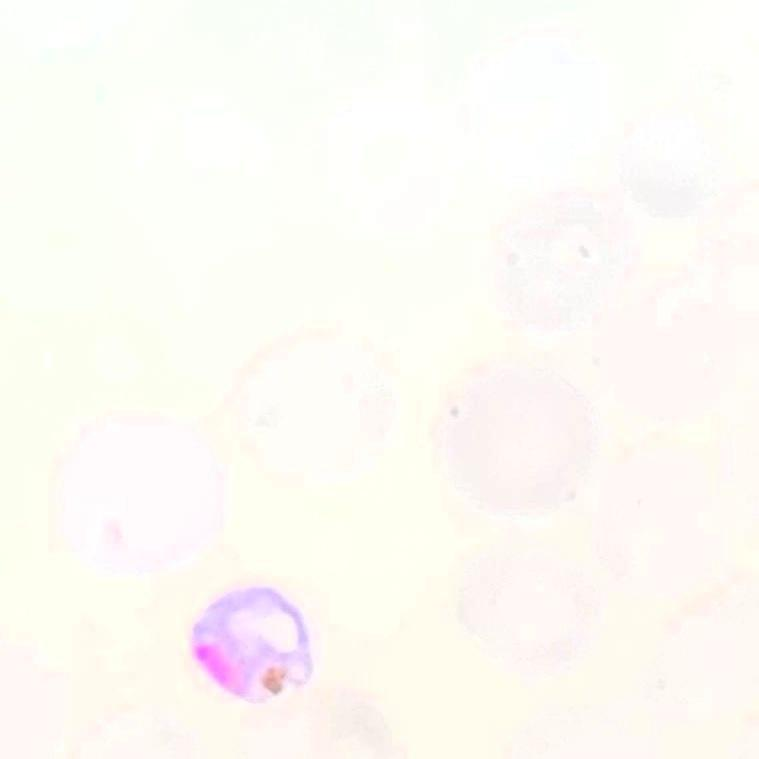Infected: (188, 579, 319, 708)
